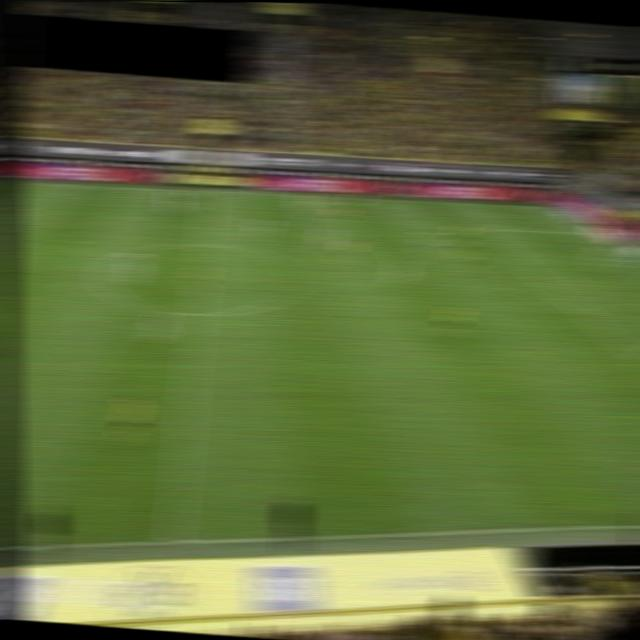bigarea_top_inner: (468, 221, 493, 234)
bigarea_top_outter: (579, 227, 604, 239)
bottom_arc_area_intersection: (567, 305, 598, 320)
corner: (531, 201, 557, 214)
halfcircle_bottom: (185, 306, 209, 319)
halfcircle_top: (192, 237, 216, 251)
midline_bottom_intersection: (160, 532, 187, 549)
midline_top_intersection: (198, 184, 223, 197)
smallarea_top_inner: (587, 254, 612, 266)
smallarea_top_outter: (626, 253, 640, 266)
top_arc_area_intersection: (507, 254, 531, 266)
